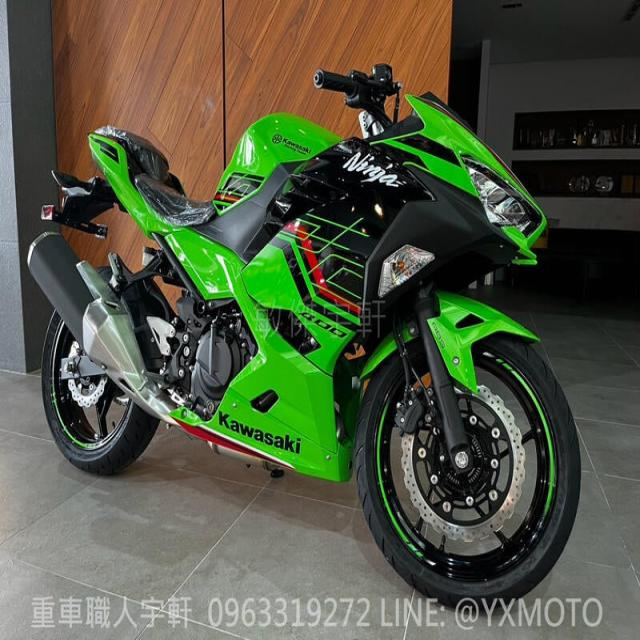Bike: (26, 64, 582, 607)
